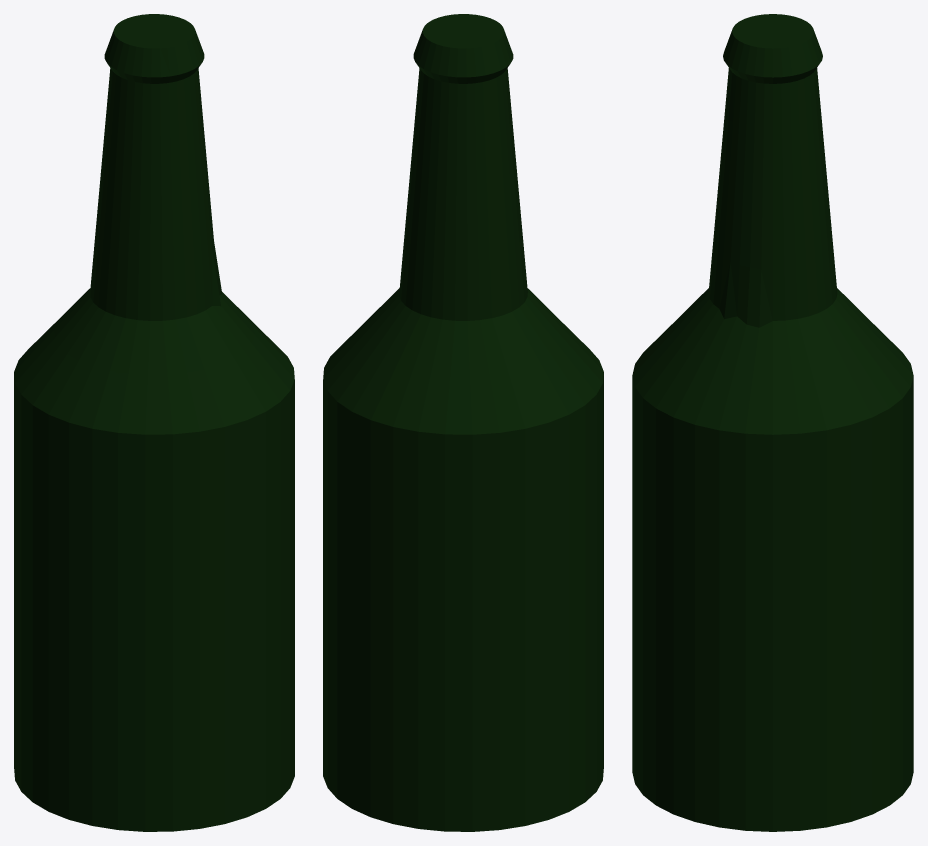
File: Mate.fbx
3 views of the same model, side by side, from view 1: azimuth 30°, elevation 25°; view 2: azimuth 150°, elevation 25°; view 3: azimuth 270°, elevation 25° (orthographic).
Parts seen in each view (by area): view 1: Flasche, Flasche_cell.008, Flasche_cell.014, Flasche_cell.022, Flasche_cell.002; view 2: Flasche, Flasche_cell.010, Flasche_cell.028, Flasche_cell.026, Flasche_cell.017, Flasche_cell.020; view 3: Flasche, Flasche_cell.014, Flasche_cell.010, Flasche_cell.026, Flasche_cell.018, Flasche_cell.017, Flasche_cell.008.
Part boxes in pixels (x1=…): Flasche: x1=14, y1=14, x2=294, y2=831; Flasche_cell.008: x1=151, y1=129, x2=201, y2=257; Flasche_cell.014: x1=111, y1=242, x2=222, y2=373; Flasche_cell.022: x1=199, y1=421, x2=246, y2=545; Flasche_cell.002: x1=151, y1=40, x2=198, y2=151; Flasche: x1=323, y1=14, x2=603, y2=831; Flasche_cell.010: x1=371, y1=349, x2=449, y2=530; Flasche_cell.028: x1=355, y1=650, x2=433, y2=786; Flasche_cell.026: x1=363, y1=523, x2=393, y2=664; Flasche_cell.017: x1=352, y1=724, x2=391, y2=823; Flasche_cell.020: x1=418, y1=788, x2=444, y2=831; Flasche: x1=632, y1=14, x2=913, y2=831; Flasche_cell.014: x1=691, y1=240, x2=772, y2=327; Flasche_cell.010: x1=858, y1=310, x2=913, y2=485; Flasche_cell.026: x1=907, y1=480, x2=913, y2=639; Flasche_cell.018: x1=691, y1=318, x2=758, y2=378; Flasche_cell.017: x1=903, y1=706, x2=913, y2=794; Flasche_cell.008: x1=713, y1=122, x2=729, y2=247.
Bounding box in the file's own units: 14.68 × 42.7 × 14.68.
